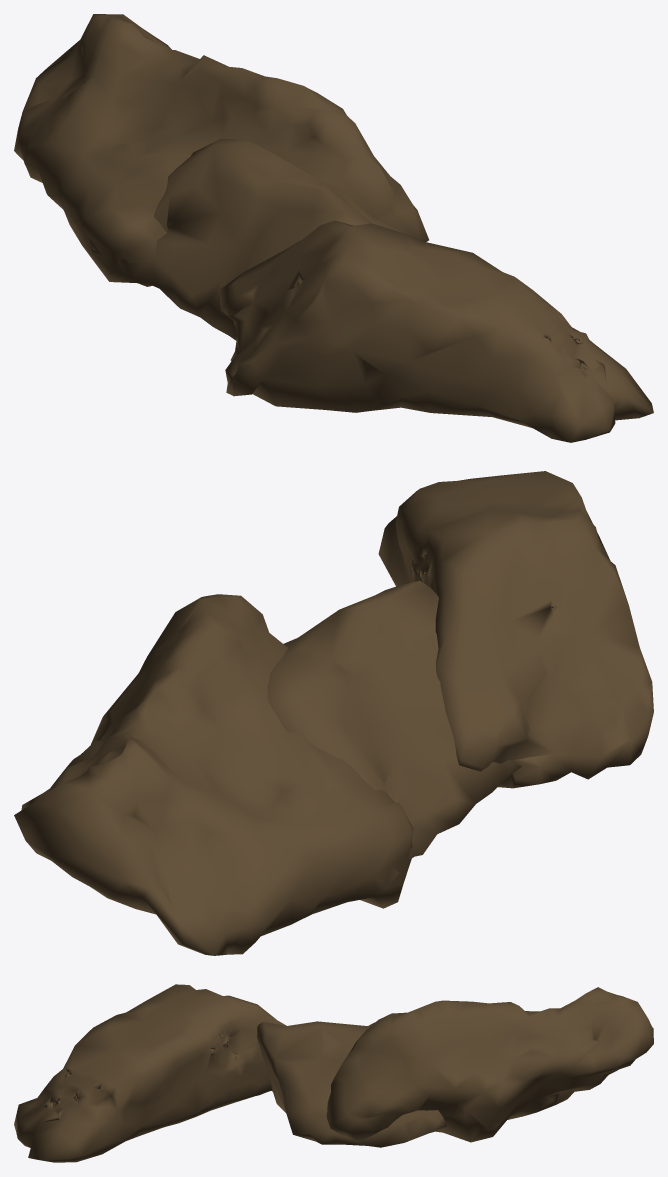
Rendered from BandWallLong.gltf.
The picture shows the model from 3 angles, top to bottom: view 1: azimuth 30°, elevation 25°; view 2: azimuth 150°, elevation 25°; view 3: azimuth 270°, elevation 25°; orthographic projection. The views are drawn at different scales.
Parts seen in each view (by area): view 1: lo; view 2: lo; view 3: lo.
Boxes of the visible parts, x1=… form: lo: x1=14, y1=14, x2=653, y2=442; lo: x1=14, y1=471, x2=653, y2=955; lo: x1=14, y1=984, x2=653, y2=1162.
Size of the model in its own units: 3.12 by 1.74 by 7.7.
